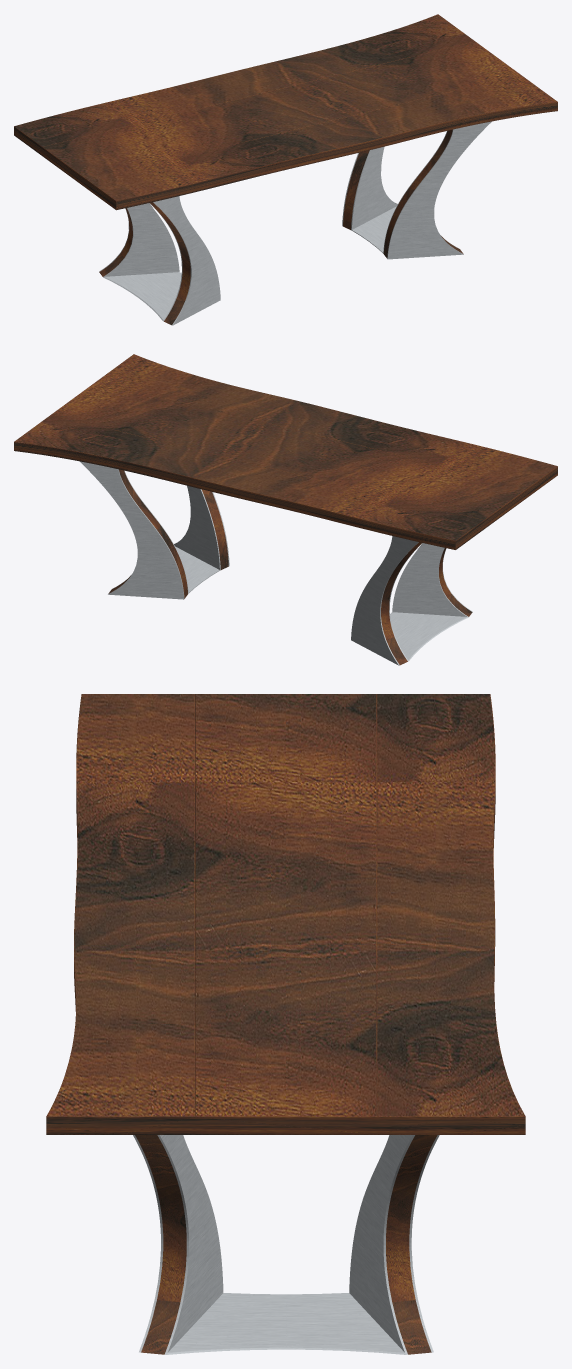
The model's file is centaurus.gltf.
3 views of the same model, one above another, from view 1: azimuth 30°, elevation 25°; view 2: azimuth 150°, elevation 25°; view 3: azimuth 270°, elevation 25° (orthographic). The views are drawn at different scales.
Parts seen in each view (by area): view 1: mesh_0; view 2: mesh_0; view 3: mesh_0.
Boxes of the visible parts, x1,y1,x2,y2 form: mesh_0: (14, 14, 557, 325); mesh_0: (14, 354, 557, 665); mesh_0: (46, 694, 525, 1354).
Bounding box in the file's own units: 220 × 74 × 105.
3 materials, 3 textured.
